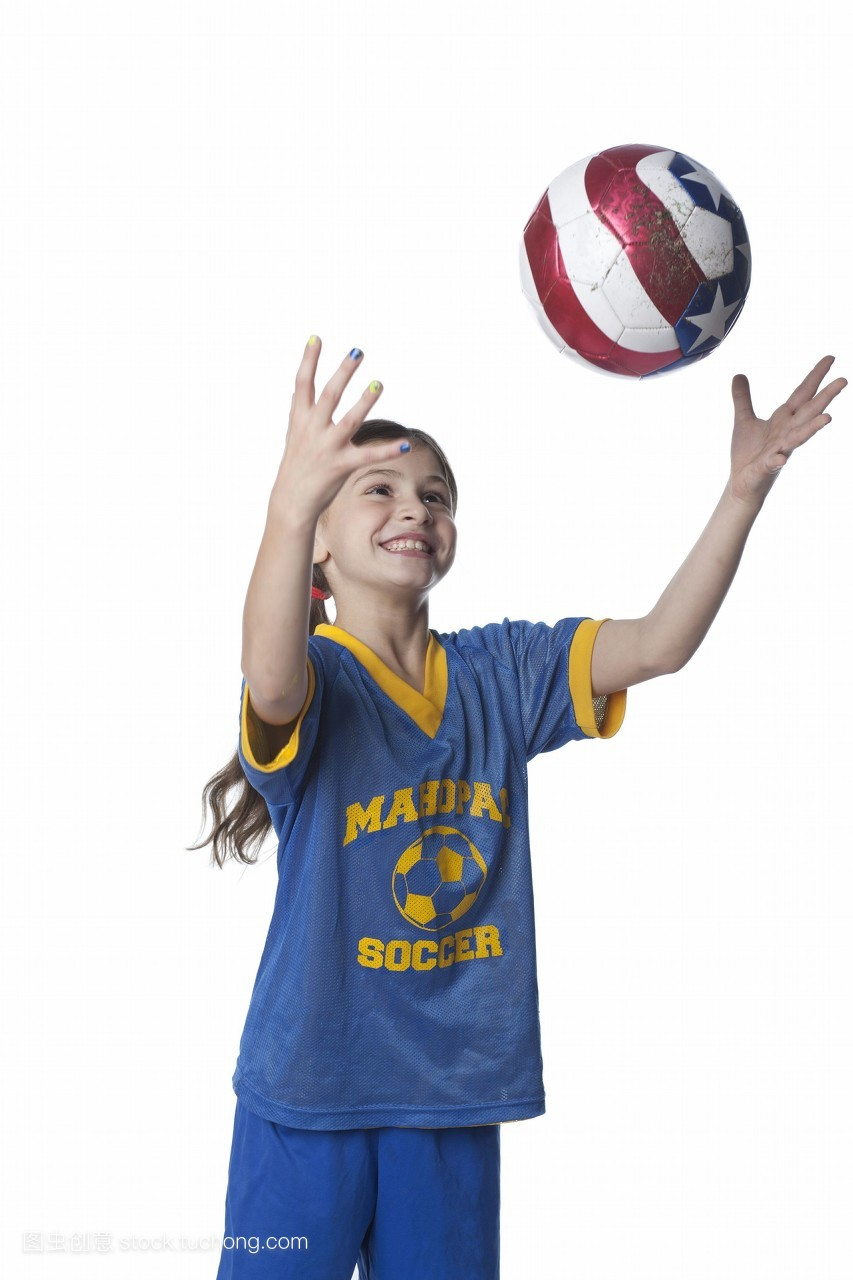handsup: (207, 276, 837, 1269)
